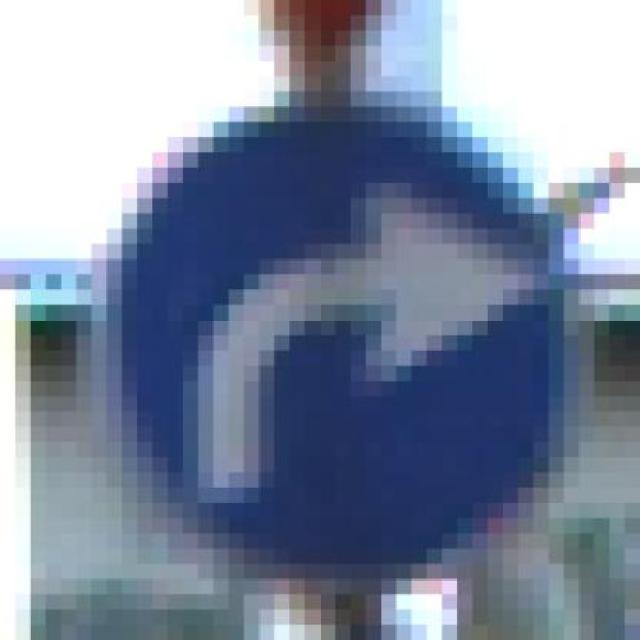Turn right ahead: (107, 92, 595, 610)
